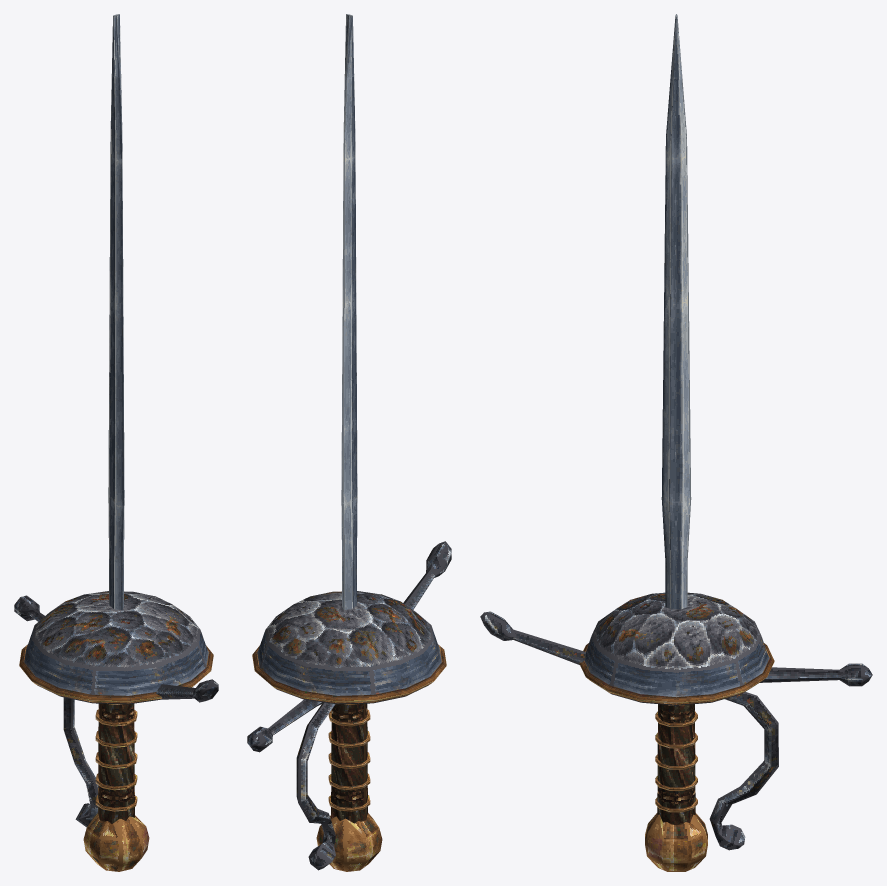
File: mourners_rapier.glb
The picture shows the model from 3 angles, left to right: view 1: azimuth 30°, elevation 25°; view 2: azimuth 150°, elevation 25°; view 3: azimuth 270°, elevation 25°; orthographic projection.
Visible parts, largest first — view 1: mourners_rapier; view 2: mourners_rapier; view 3: mourners_rapier.
Boxes of the visible parts, bbox=[...] form: mourners_rapier: bbox=[14, 14, 218, 871]; mourners_rapier: bbox=[247, 14, 451, 871]; mourners_rapier: bbox=[480, 14, 872, 871].
Bounding box in the file's own units: 0.1489 × 0.7153 × 0.2974.
1 material, 1 textured.
